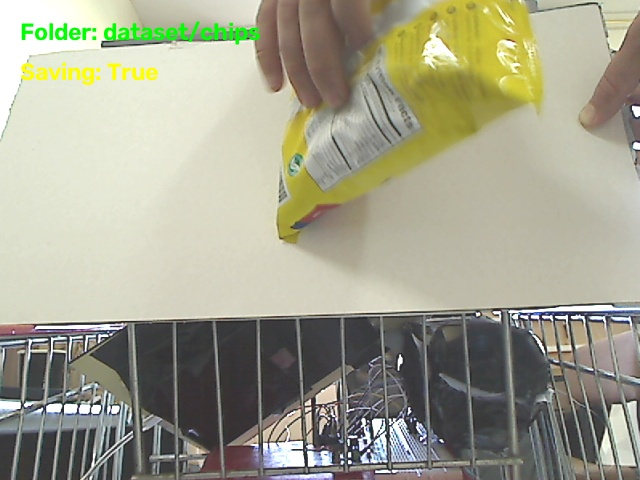chips: (277, 0, 542, 242)
